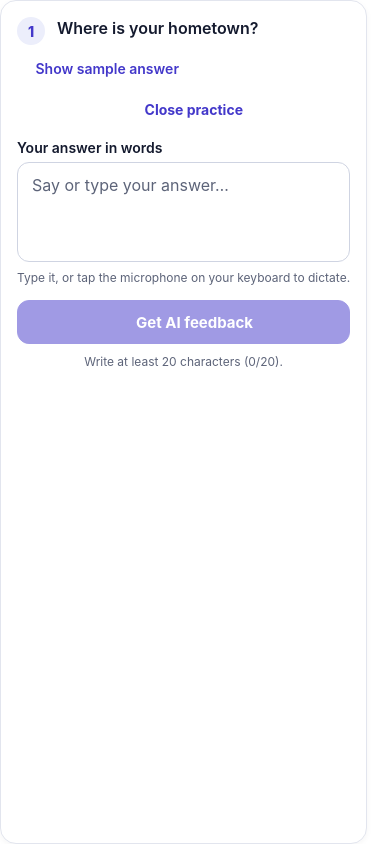
Scenario: QuestionCard › reveals the sample answer on tap
This screenshot has width=390, height=844.
Expected: the text "I come from Jaipur." is not shown
Click the button "Show sample answer" at (107, 68), box x1=17 y1=55 x2=350 y2=81
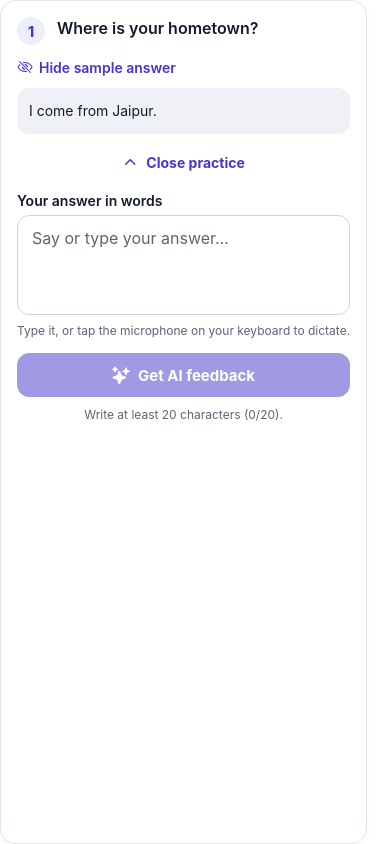
Expected: the text "I come from Jaipur." is shown, x1=29 y1=102 x2=157 y2=119
